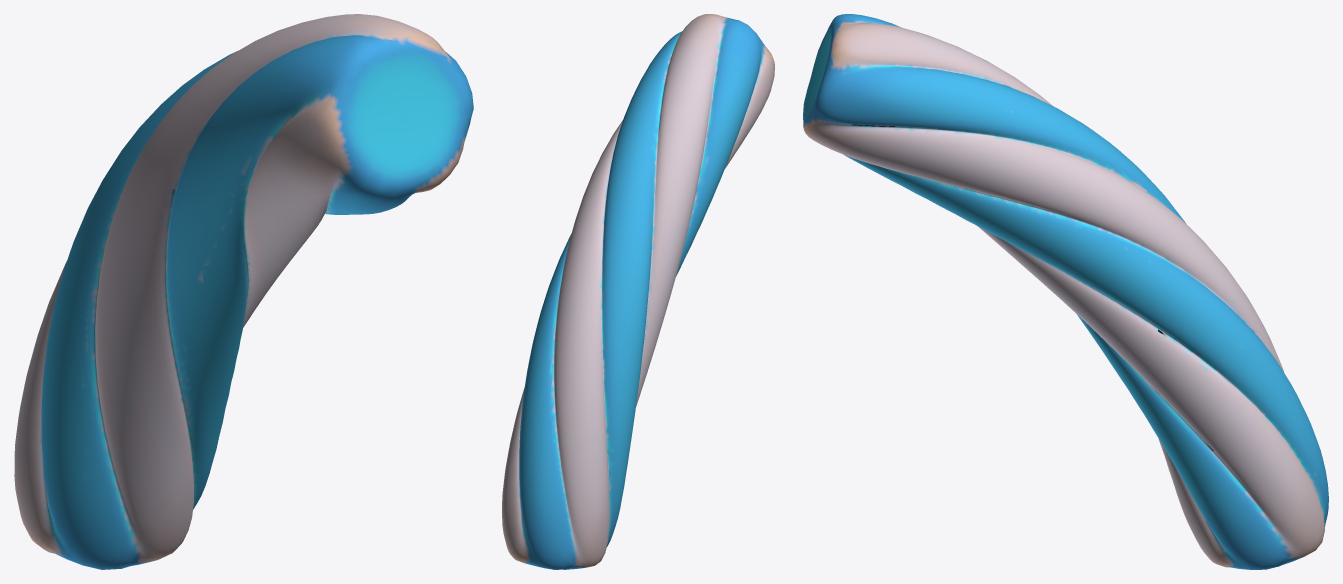
The model's file is twister_013.obj.
The picture shows the model from 3 angles, left to right: view 1: azimuth 30°, elevation 25°; view 2: azimuth 150°, elevation 25°; view 3: azimuth 270°, elevation 25°; orthographic projection. The views are drawn at different scales.
Visible parts, largest first — view 1: twister.013; view 2: twister.013; view 3: twister.013.
Boxes of the visible parts, x1,y1,x2,y2 form: twister.013: (14,14,473,569); twister.013: (502,14,774,569); twister.013: (803,14,1328,569).
Size of the model in its own units: 0.6742 by 2.61 by 2.34.
Materials: 1 (1 with a texture image).
